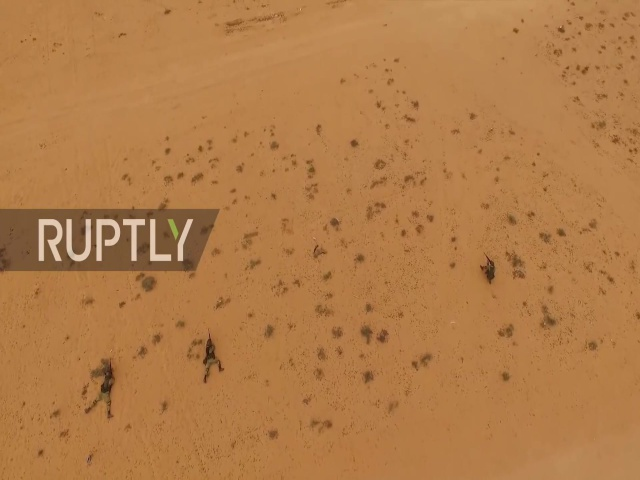person: (85, 362, 115, 421), (197, 331, 228, 385)
